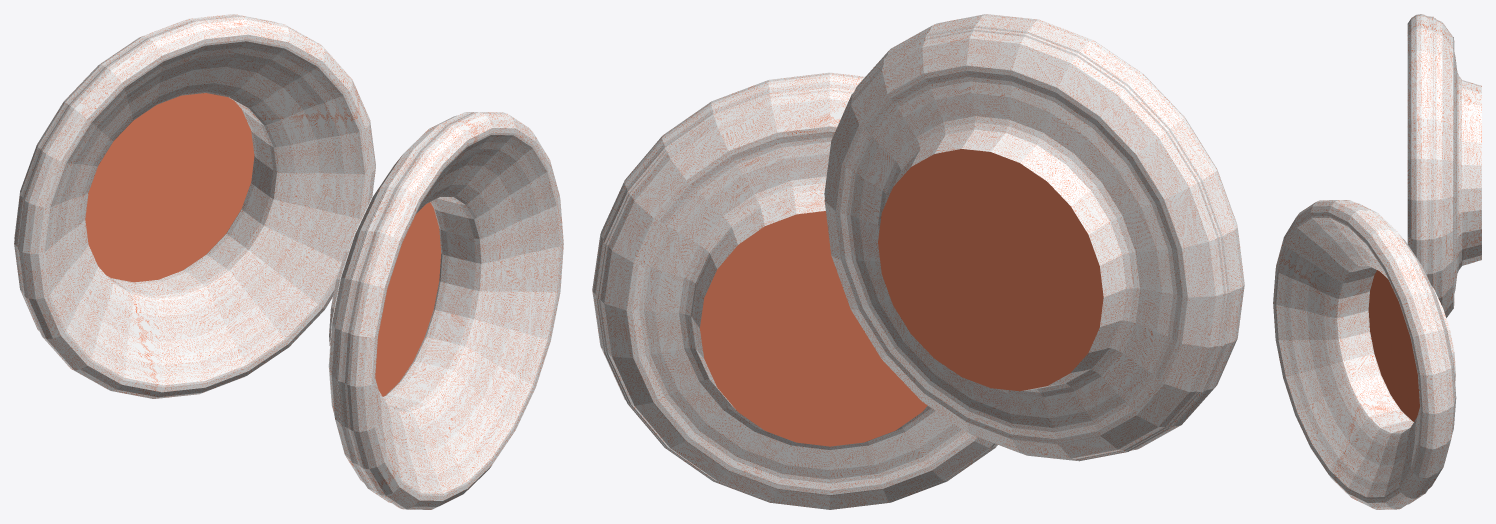
3 views of the same model, side by side, from view 1: azimuth 30°, elevation 25°; view 2: azimuth 150°, elevation 25°; view 3: azimuth 270°, elevation 25° (orthographic). The views are drawn at different scales.
Visible parts, largest first — view 1: terracotta bowls; view 2: terracotta bowls; view 3: terracotta bowls.
Boxes of the visible parts, x1,y1,x2,y2 form: terracotta bowls: (14,14,563,509); terracotta bowls: (592,14,1244,509); terracotta bowls: (1273,14,1481,509).
Bounding box in the file's own units: 439592 × 381235 × 185629.
